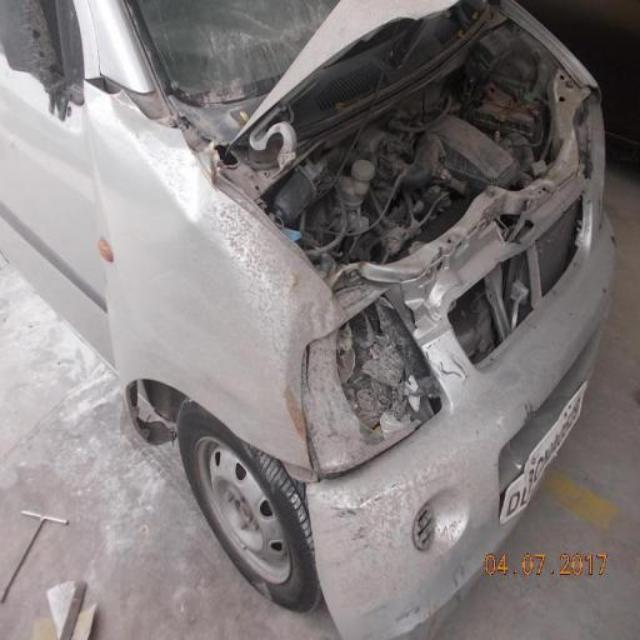crack: (86, 74, 179, 140), (393, 604, 419, 623), (523, 399, 539, 424)
dent: (451, 562, 467, 604)
dislocated part: (85, 126, 183, 453)
lamp broken: (294, 287, 452, 484), (576, 87, 610, 226)
no part: (449, 188, 593, 379), (324, 259, 475, 395)
scratch: (327, 485, 407, 561), (365, 600, 392, 620)
